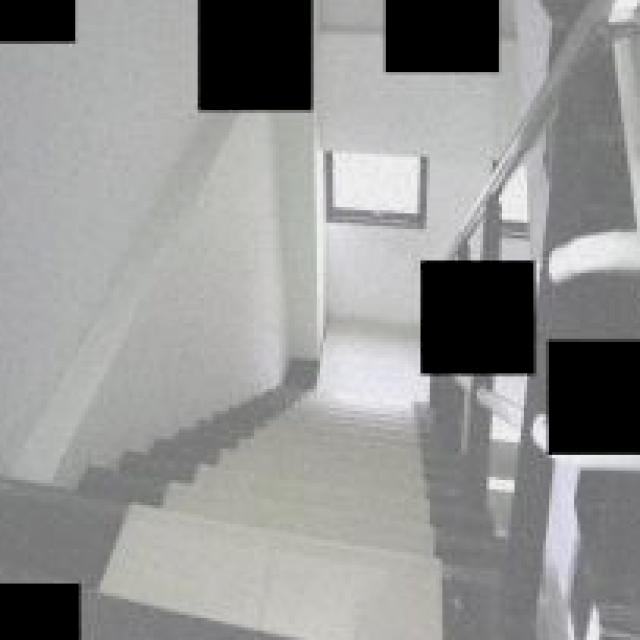downstair: (221, 415, 440, 640)
